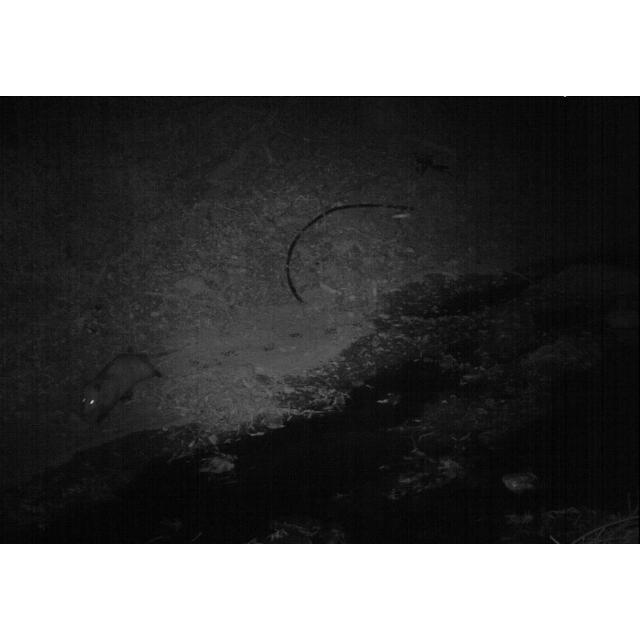animals: (77, 346, 171, 424)
